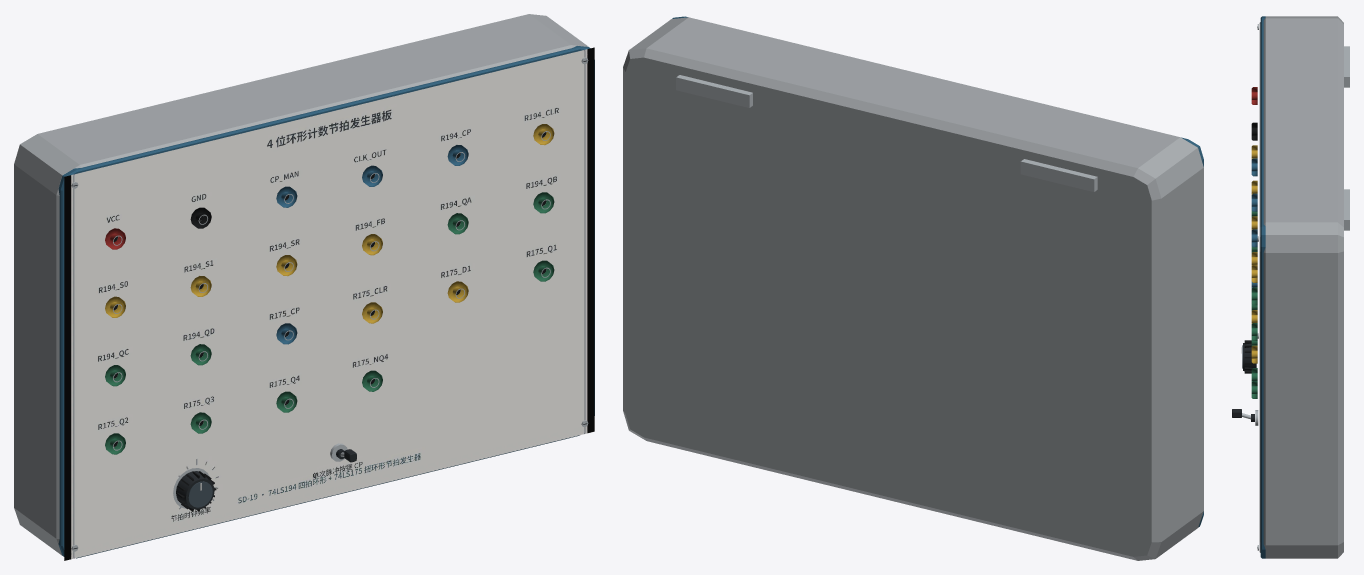
File: module.glb
3 views of the same model, side by side, from view 1: azimuth 30°, elevation 25°; view 2: azimuth 150°, elevation 25°; view 3: azimuth 270°, elevation 25° (orthographic). The views are drawn at different scales.
Visible parts, largest first — view 1: PANEL_silkscreen, STATIC_paint, STATIC_metal, MOVING_CLK_RATE_paint; view 2: STATIC_paint, STATIC_metal; view 3: STATIC_paint, STATIC_metal, MOVING_CLK_RATE_paint.
Part boxes in pixels (<box>): PANEL_silkscreen: <box>64,47,594,560</box>; STATIC_paint: <box>14,14,594,558</box>; STATIC_metal: <box>71,57,588,551</box>; MOVING_CLK_RATE_paint: <box>176,471,216,511</box>; STATIC_paint: <box>623,16,1203,560</box>; STATIC_metal: <box>676,75,1097,191</box>; STATIC_paint: <box>1251,16,1343,558</box>; STATIC_metal: <box>1255,24,1349,550</box>; MOVING_CLK_RATE_paint: <box>1241,340,1256,373</box>.
Size of the model in its own units: 0.264 by 0.184 by 0.0588.
Materials: 5 (1 with a texture image).
